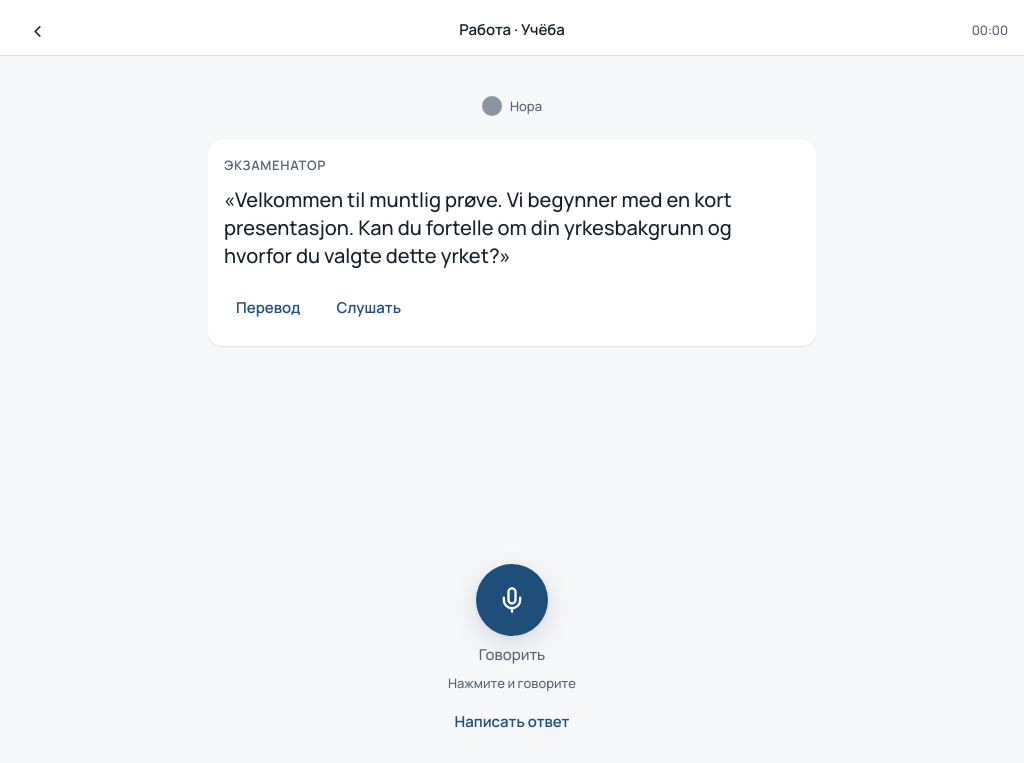
Test: PracticeScreen (/practice, Issue #53) › 9. State test: Blocked microphone permission shows alert notice
Click the button named "Говорить": (512, 600) [476,564,548,636]
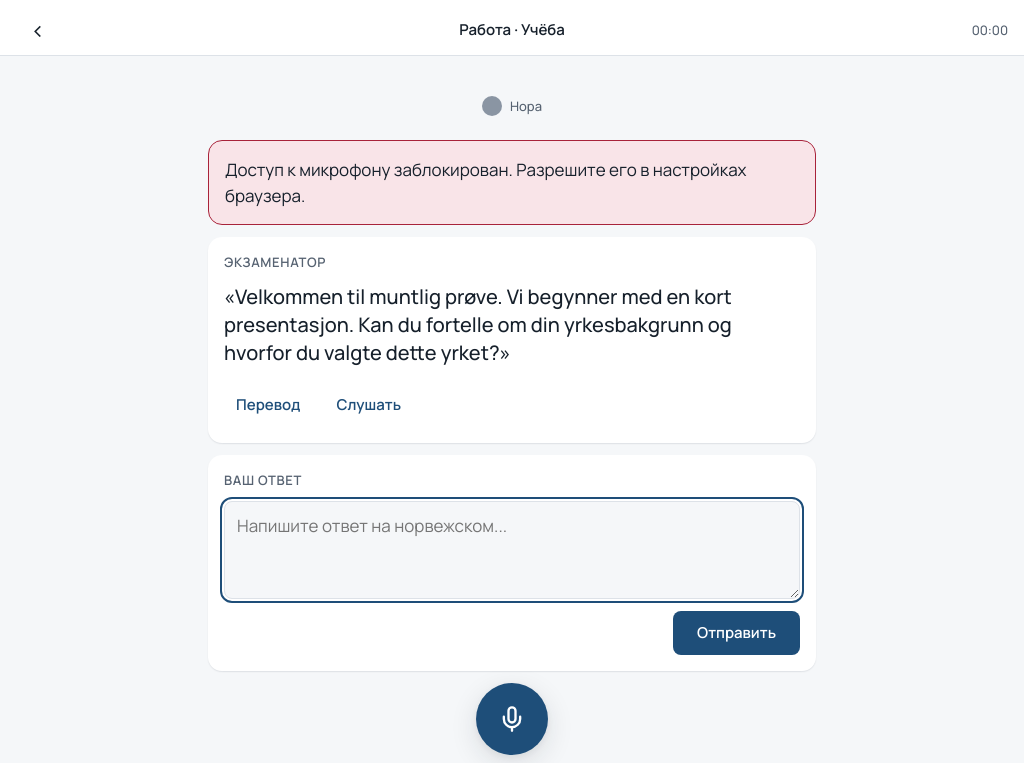
Now the text "Доступ к микрофону заблокирован. Разрешите его в настройках браузера." is shown, box [225,157,799,208]
